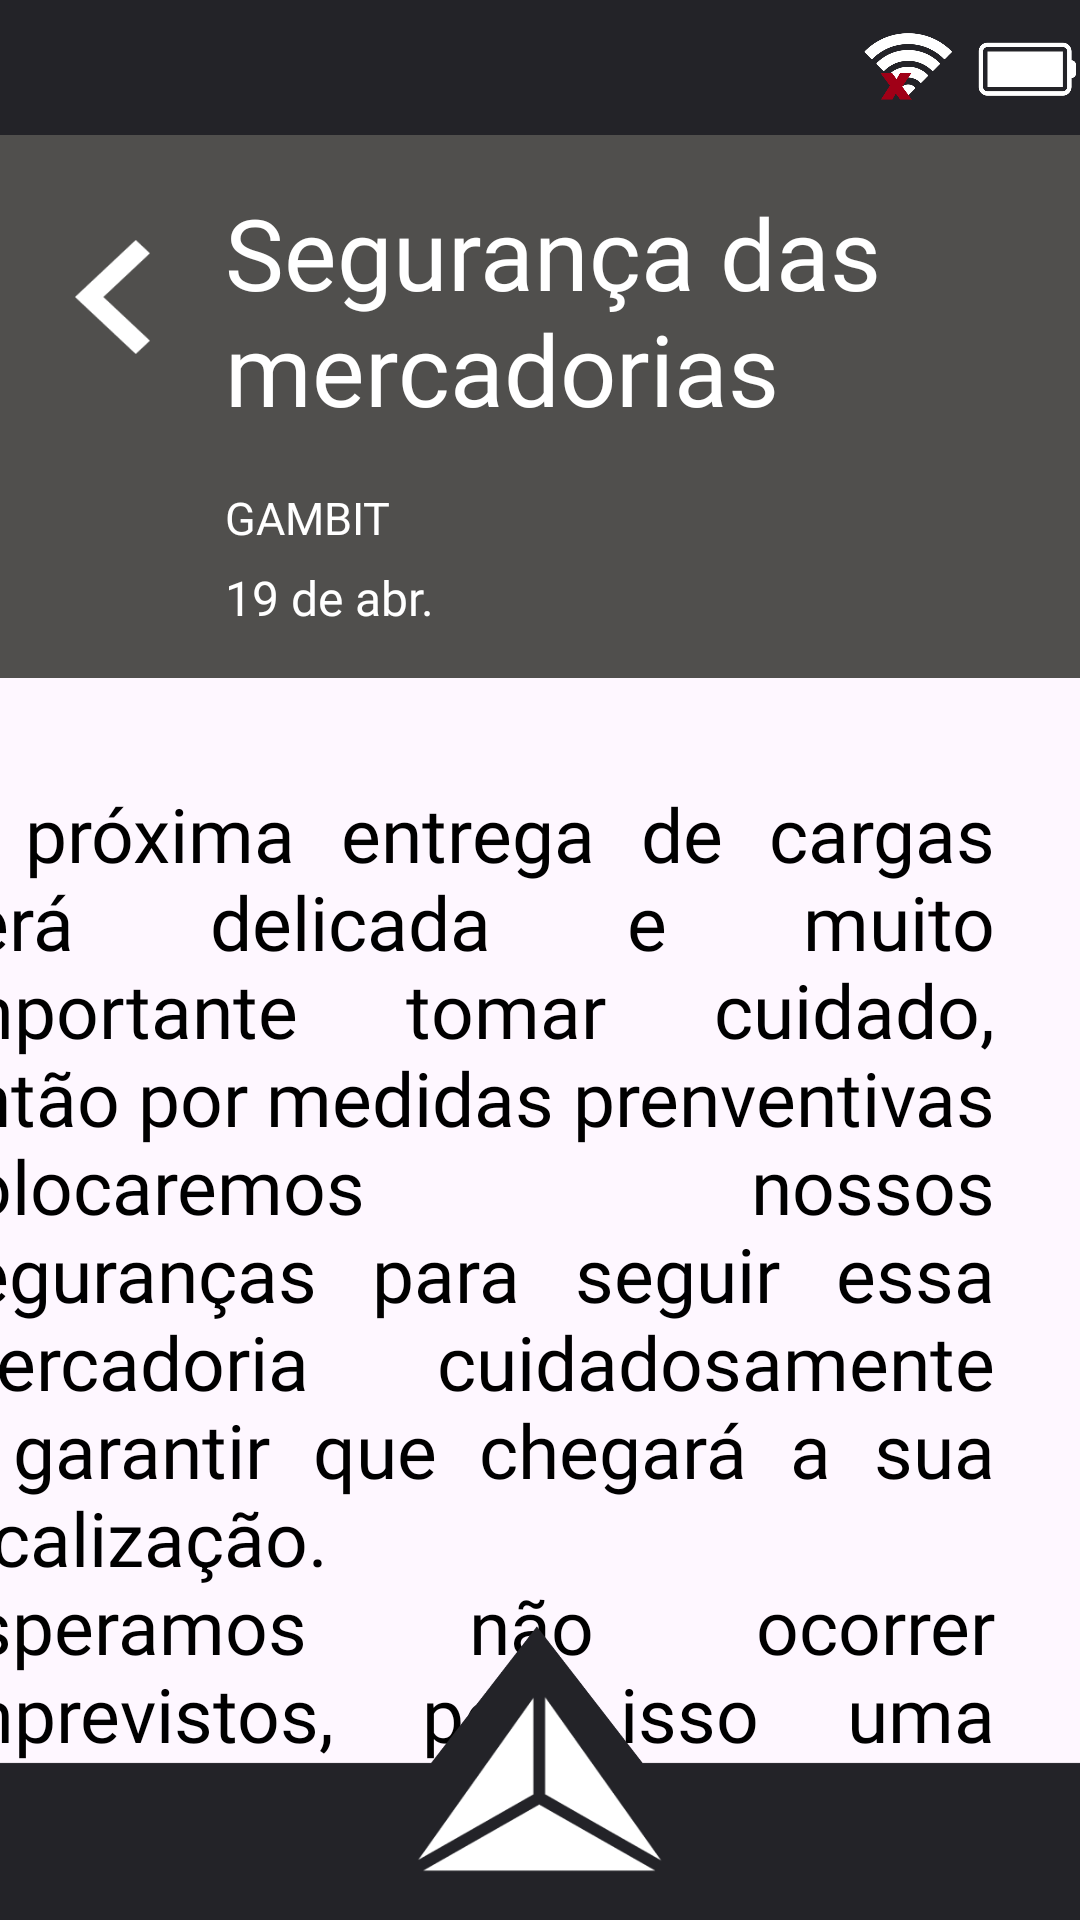

Icons on this 1080×1920 Android screen, each with its box as detection(x1, y1, x2, y2):
btnvoltaremail: detection(75, 240, 150, 354)
